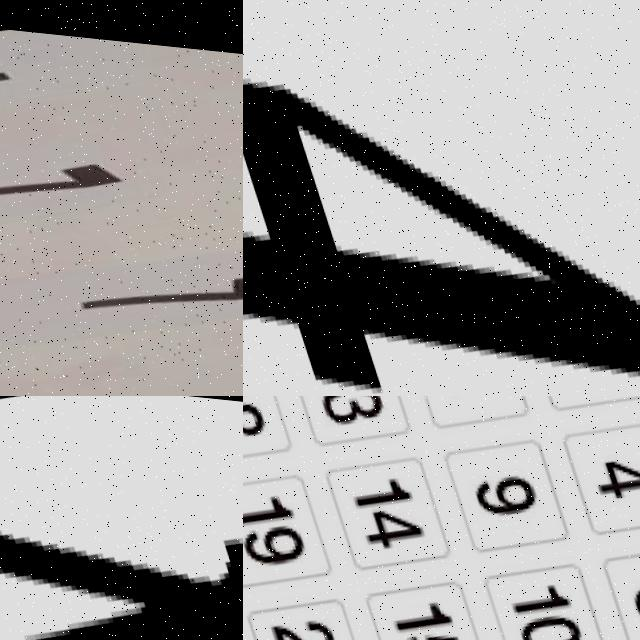0: (498, 589, 579, 640)
1: (481, 560, 583, 620), (375, 583, 449, 633), (332, 460, 408, 508), (243, 478, 294, 533)
2: (255, 597, 336, 640)
3: (302, 396, 385, 430)
4: (343, 490, 422, 551), (579, 431, 640, 496)
5: (383, 609, 464, 640), (614, 552, 640, 617)
7: (58, 232, 243, 335), (0, 125, 133, 231)
8: (243, 396, 278, 450)
9: (454, 450, 538, 515), (243, 507, 303, 576)
M: (0, 396, 243, 640)
